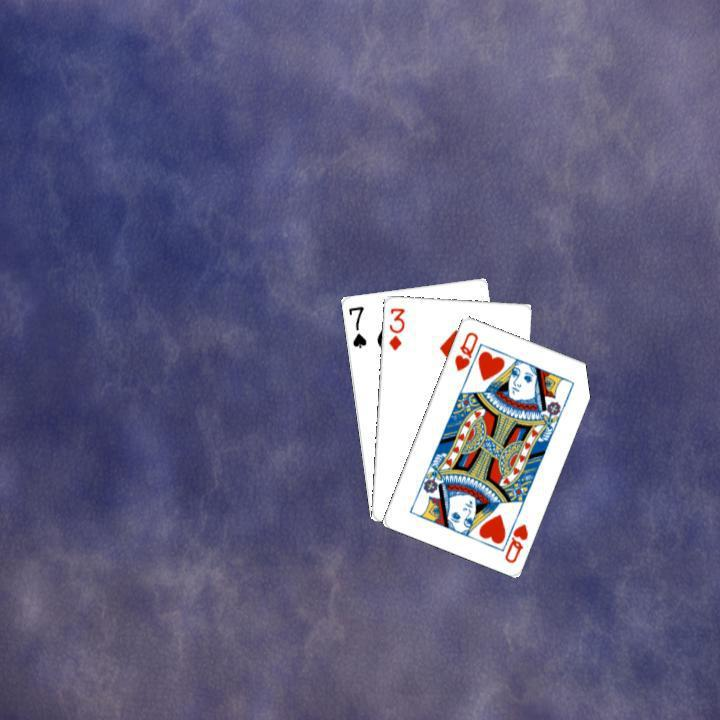3: (384, 303, 407, 352)
7: (343, 302, 368, 350)
Q: (496, 510, 530, 565), (450, 327, 480, 373)
